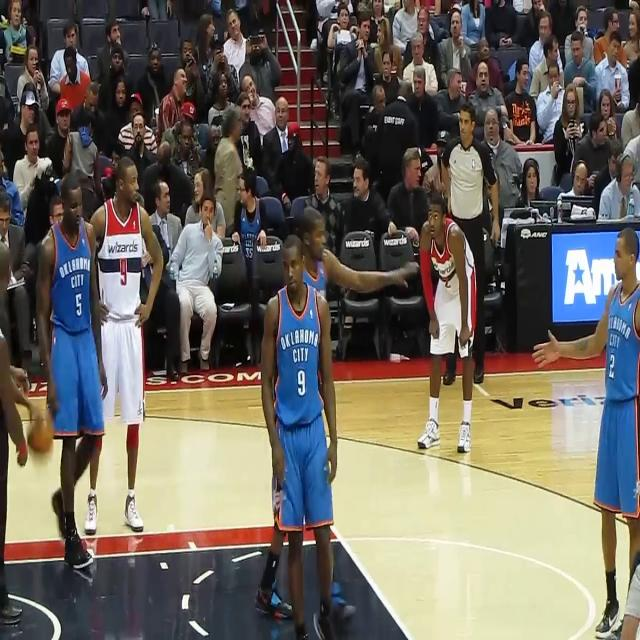ball: (25, 404, 57, 464)
